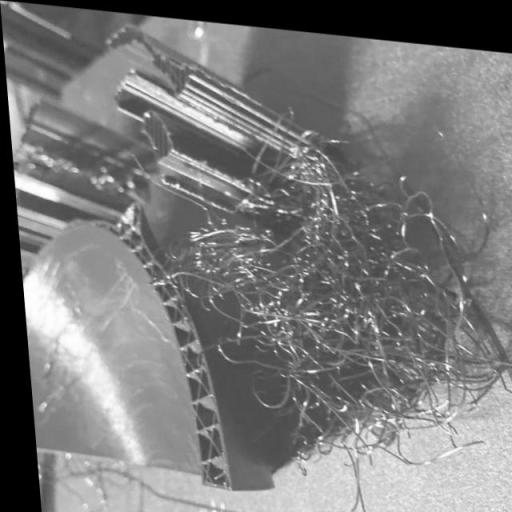spaghetti_and_stringing: (190, 199, 328, 334), (362, 196, 457, 362), (272, 350, 406, 450), (276, 134, 370, 226)
